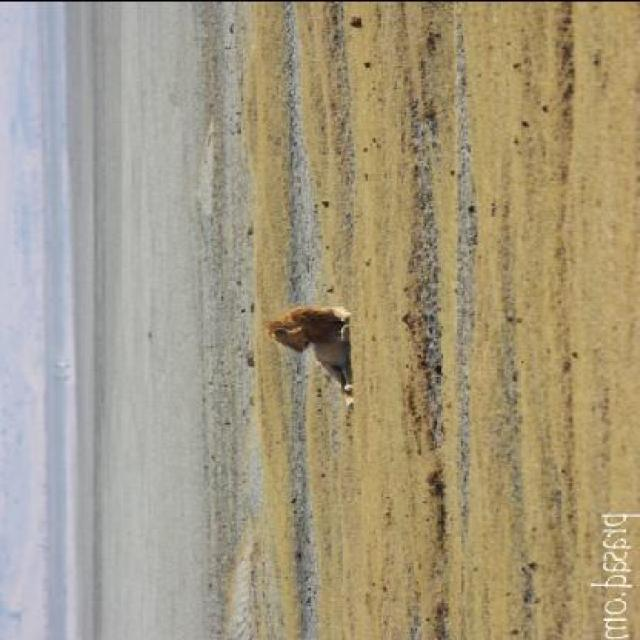Lion: (255, 285, 372, 417)
